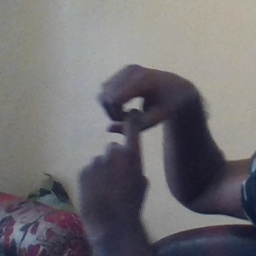Q: (70, 58, 189, 211)
